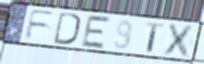9: (113, 18, 136, 52)
D: (53, 11, 82, 46)
E: (79, 14, 114, 50)
F: (23, 9, 57, 42)
T: (145, 21, 165, 54)
X: (161, 21, 198, 59)
